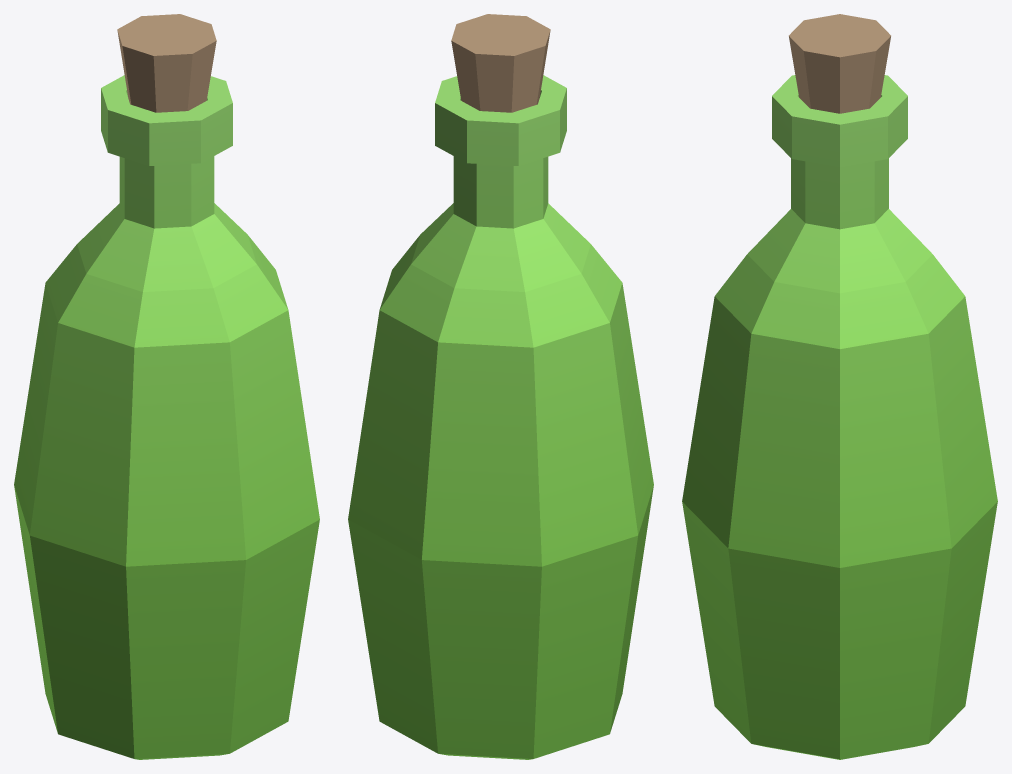
The model's file is Bottle_04.fbx.
3 renders of one model, left to right at view 1: azimuth 30°, elevation 25°; view 2: azimuth 150°, elevation 25°; view 3: azimuth 270°, elevation 25°, orthographic.
Parts seen in each view (by area): view 1: Bottle_04; view 2: Bottle_04; view 3: Bottle_04.
Part boxes in pixels (x1,y1,x2,y2): Bottle_04: (14, 14, 319, 759); Bottle_04: (348, 14, 653, 759); Bottle_04: (682, 14, 997, 759).
Size of the model in its own units: 0.1948 by 0.4627 by 0.1948.
